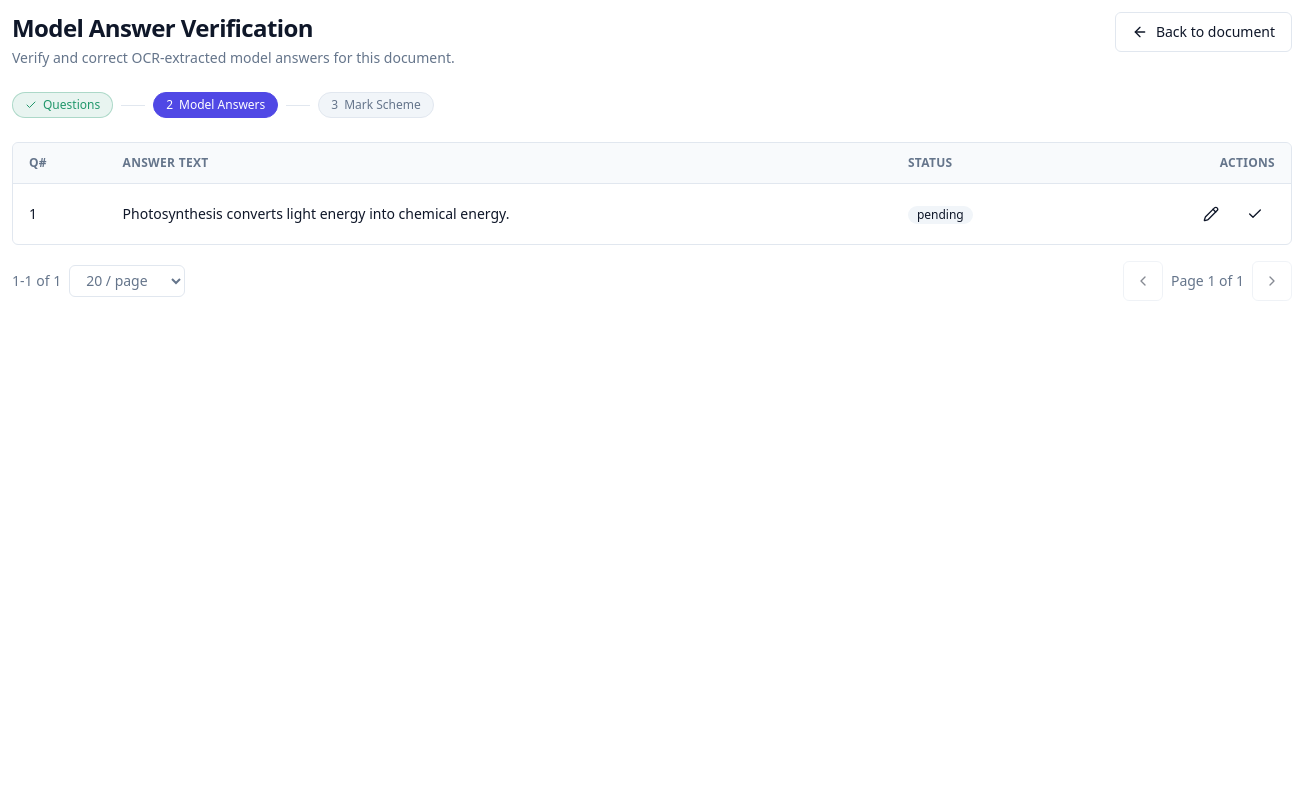
Scenario: ModelAnswerVerificationPage › verifies a model answer and shows a success toast
expect the text "Photosynthesis converts light energy into chemical energy." is shown: met, box [107,183,892,244]
Click the button named "Verify model answer 1" at {"x": 1255, "y": 214}, box [1235,194,1275,234]
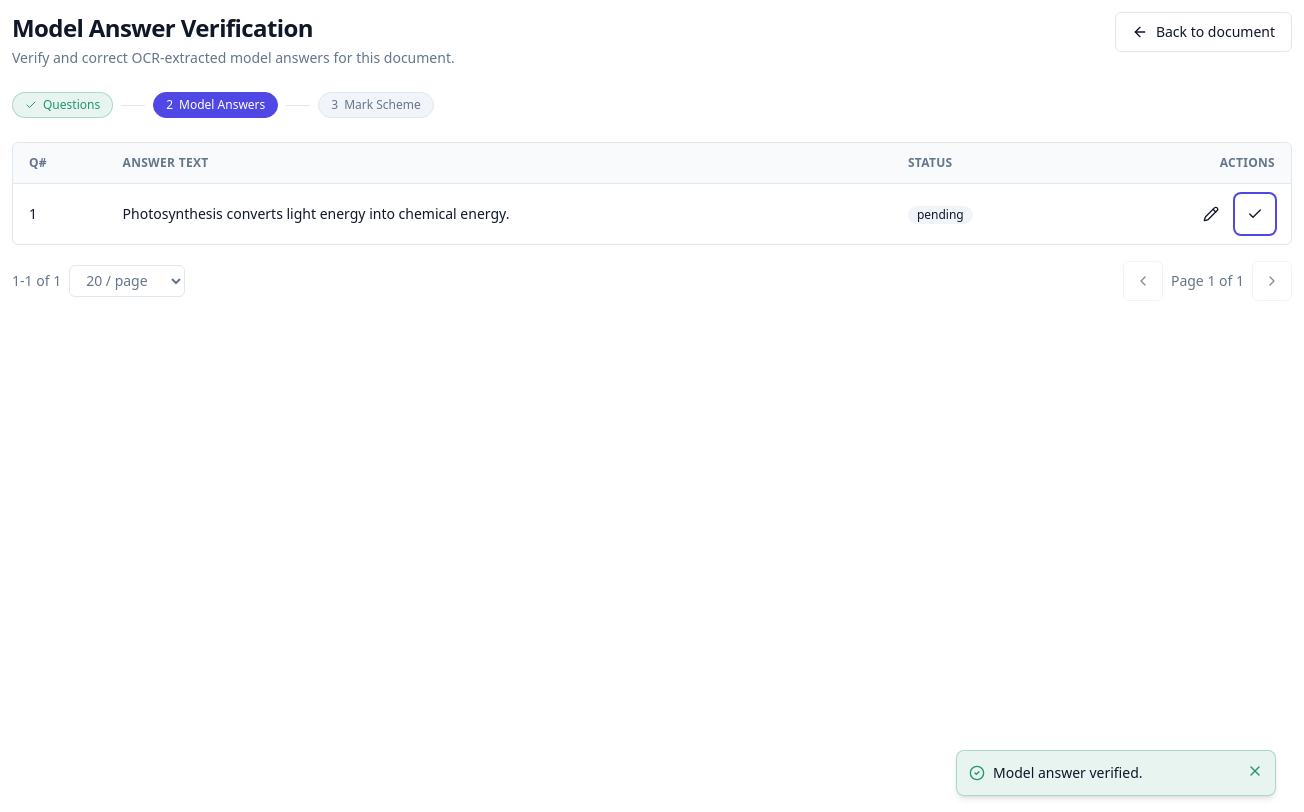
expect the text "Model answer verified." is shown: met, box [993,763,1143,782]
